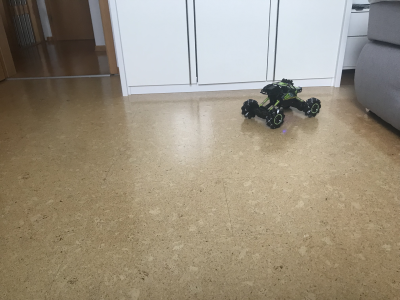remote control car: (238, 77, 327, 130)
